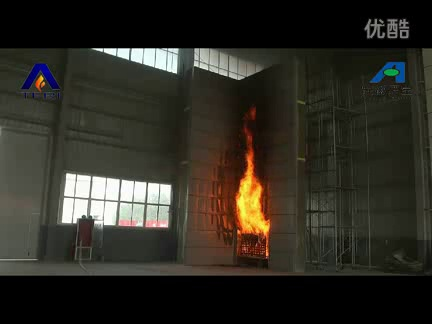fire: (234, 124, 269, 232)
